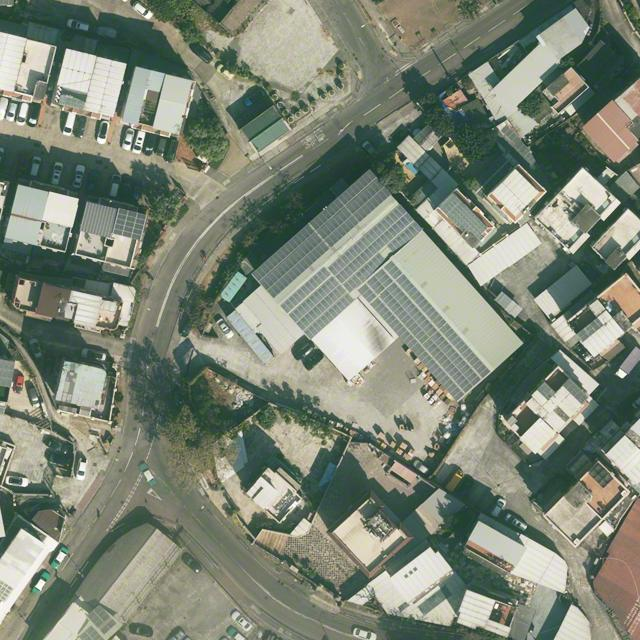panel: (357, 260, 492, 400), (251, 169, 392, 298), (327, 205, 415, 285), (279, 267, 356, 341), (342, 252, 388, 294), (386, 220, 422, 255), (113, 208, 147, 240)
